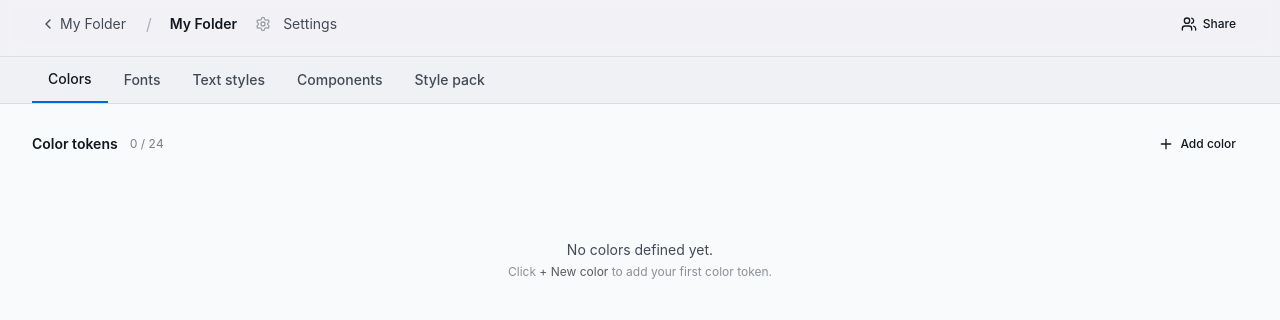
Test: FolderSettings page › creates a new color token when + New color is clicked
Editing controls appear once the folder (and the user's role in it) has loaded.
Step 1. Click the button with aria-label "new color" → coordinates (1197, 144), box left=1146, top=128, right=1248, bottom=160
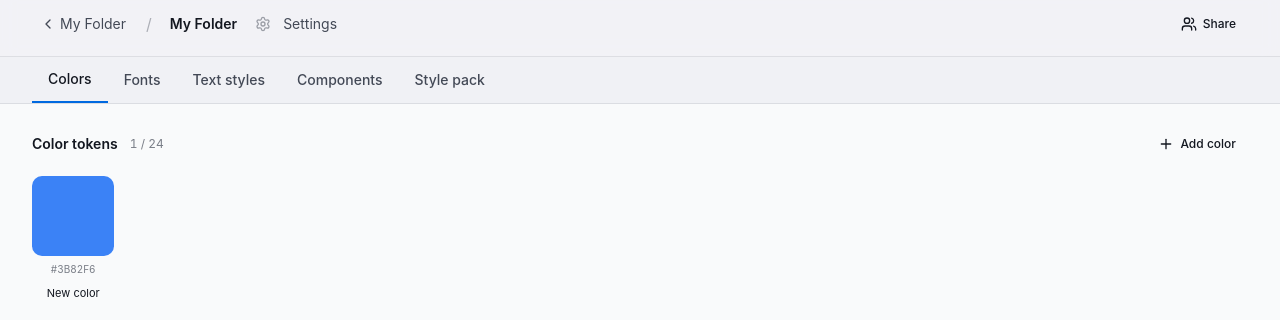
Expected: the list item is shown, left=32, top=176, right=114, bottom=304
